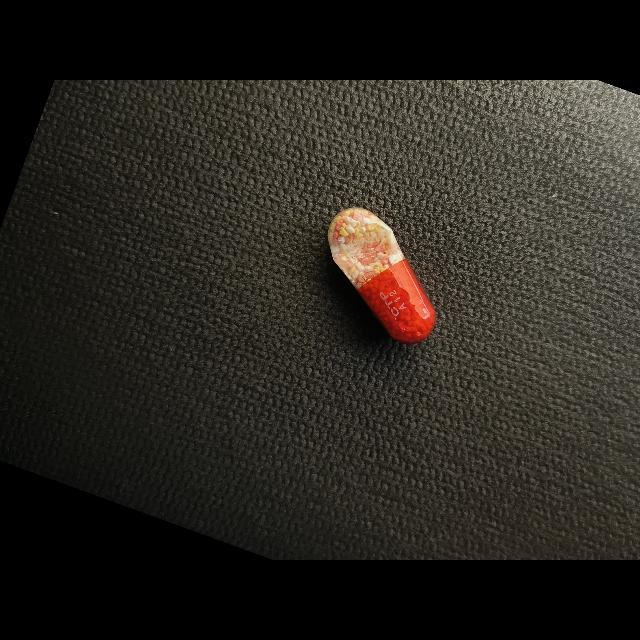Defective Capsule: (328, 207, 436, 342)
